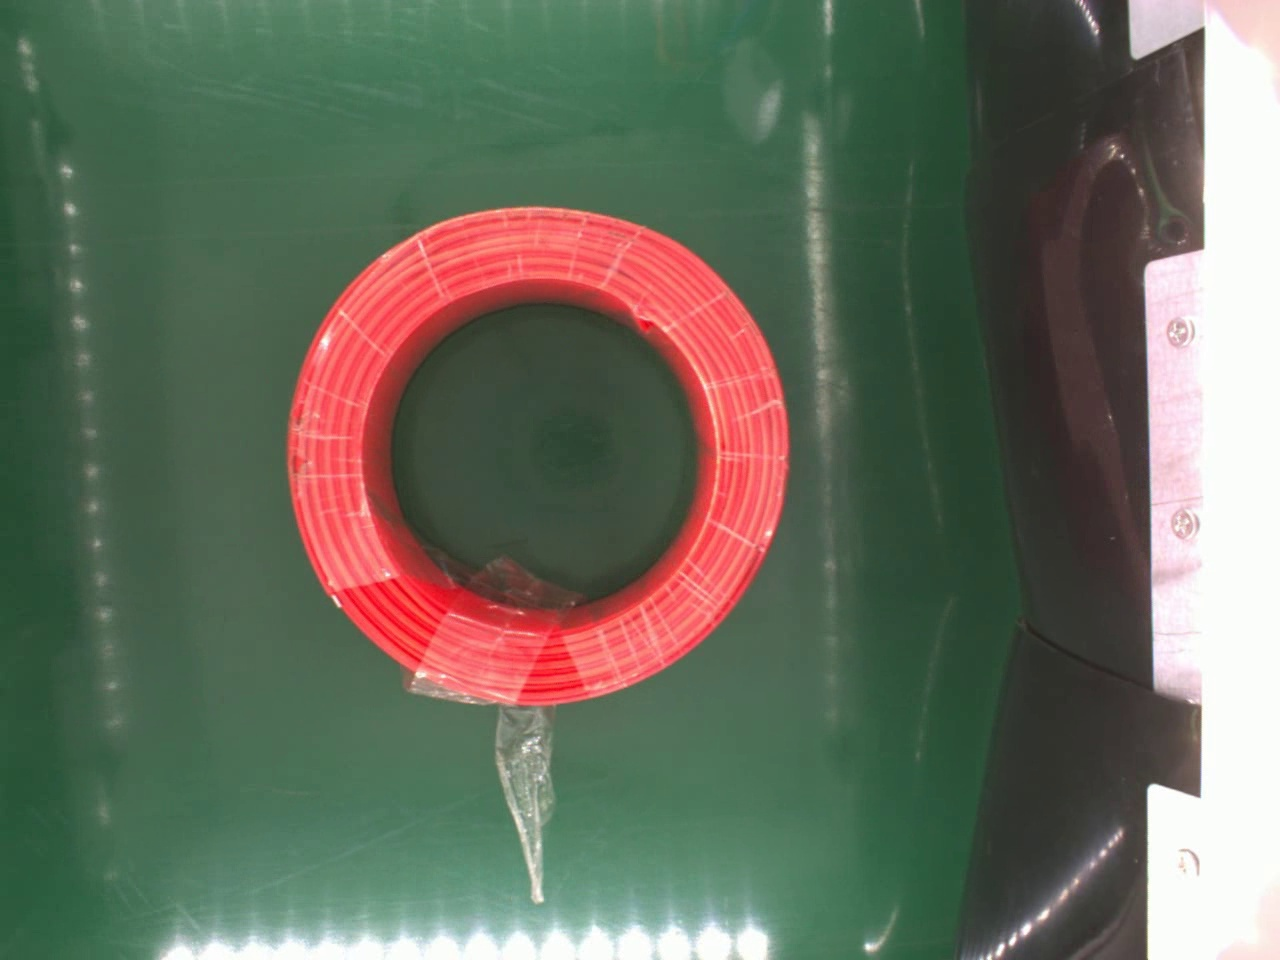red: (284, 199, 792, 710)
